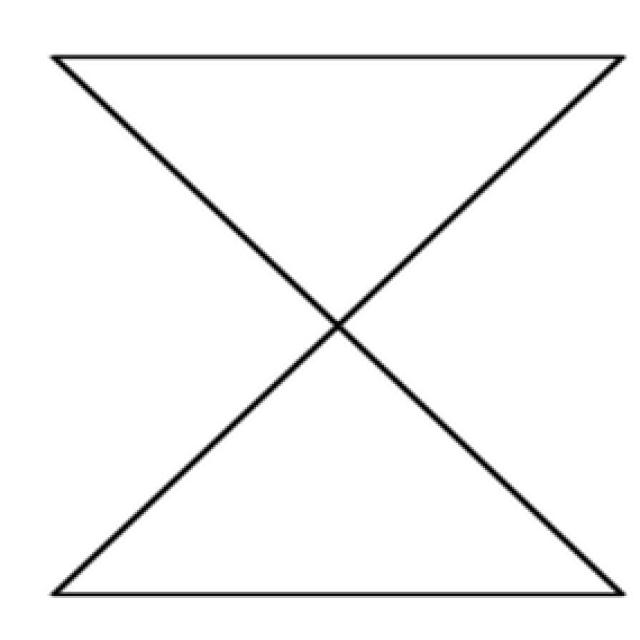Gate valve: (54, 57, 626, 594)
